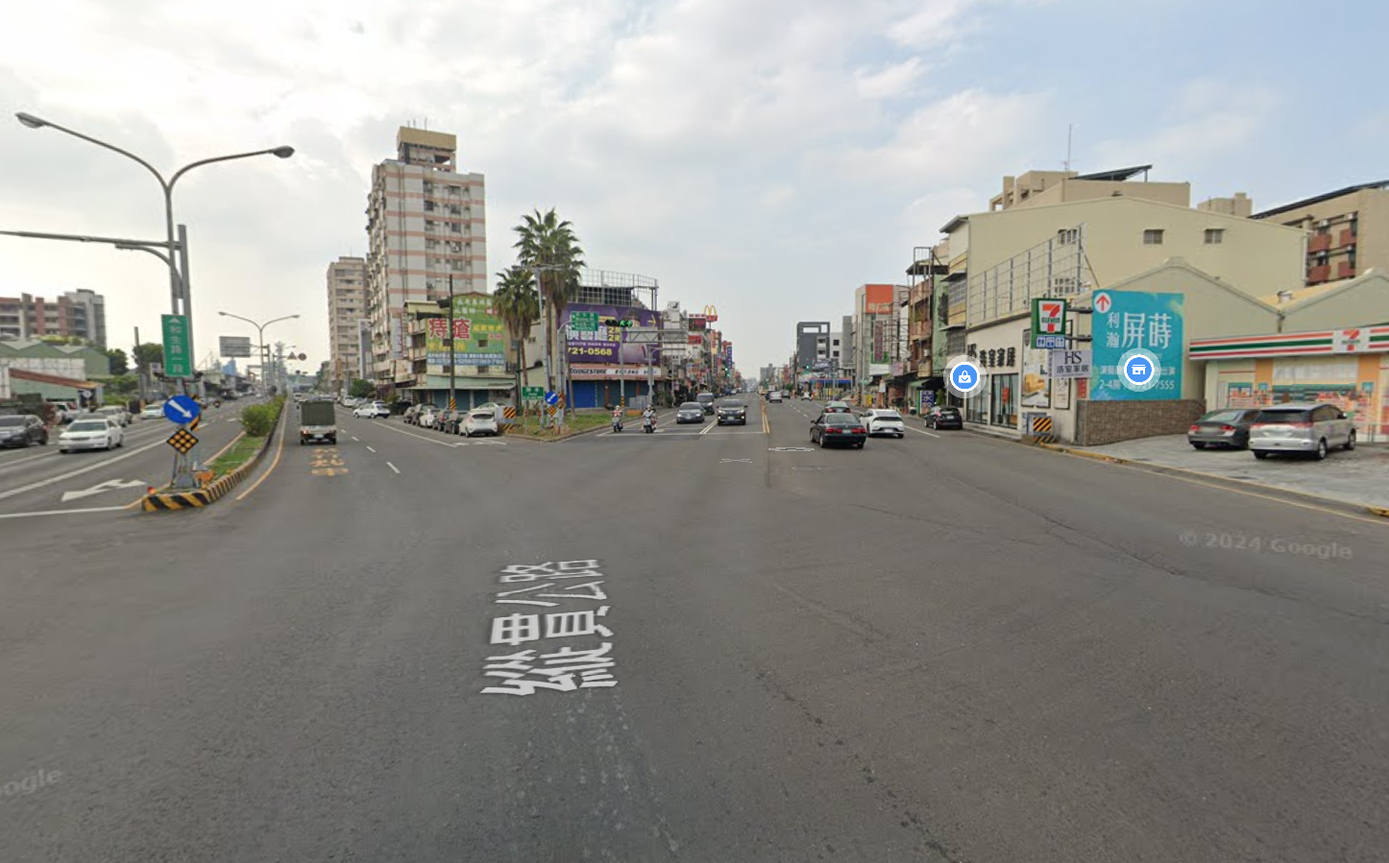green: (603, 312, 639, 331)
